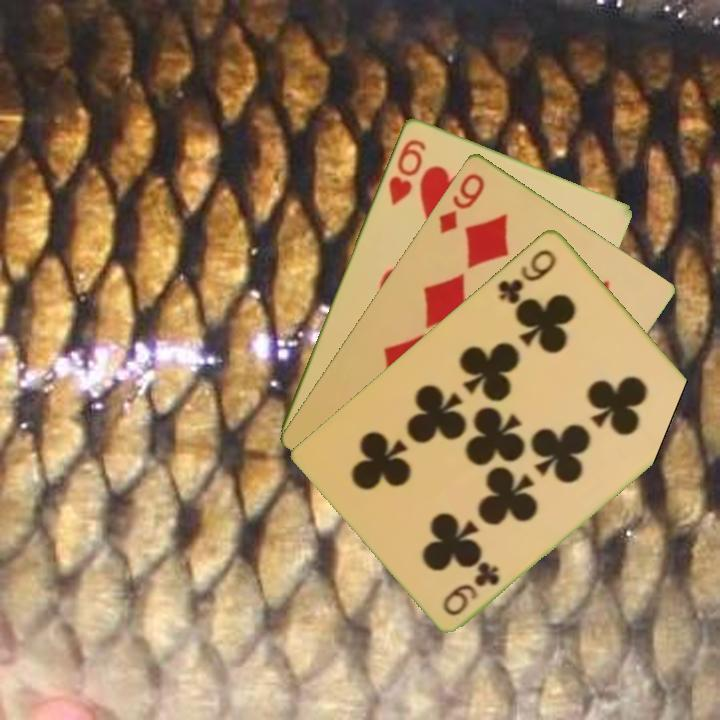6h: (384, 134, 429, 207)
9c: (494, 245, 560, 307), (439, 558, 503, 619)
9d: (435, 169, 488, 237)
